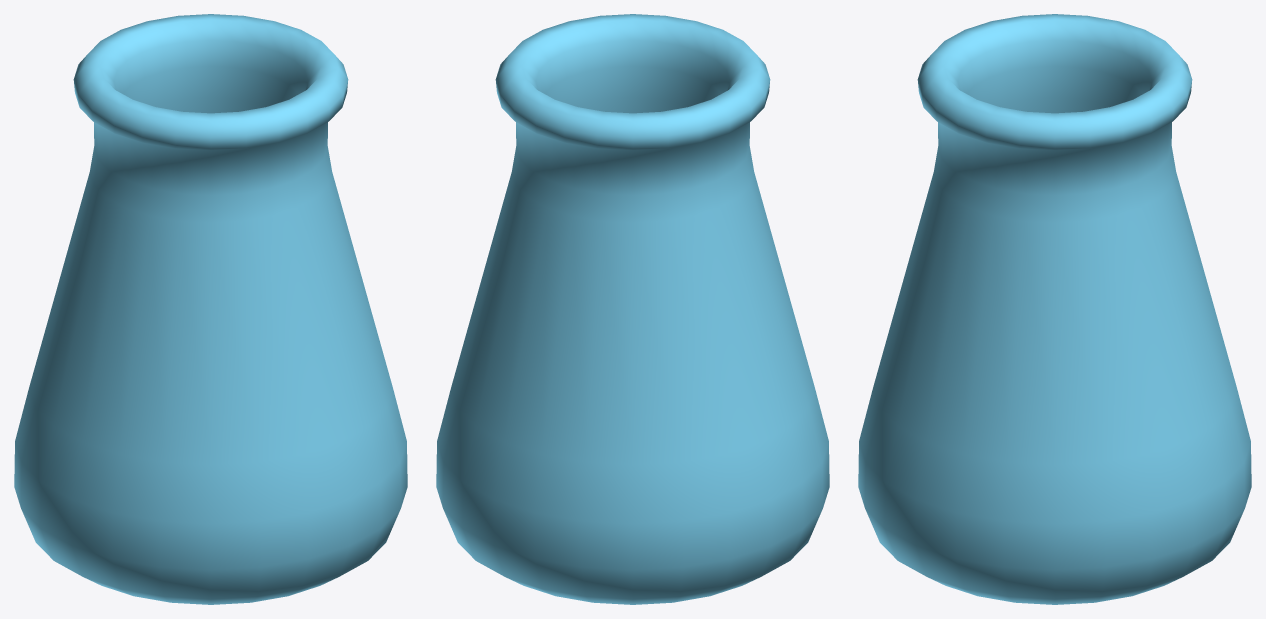
The model's file is Flask, Erlenmeyer, Wide Mouth.fbx.
3 renders of one model, left to right at view 1: azimuth 30°, elevation 25°; view 2: azimuth 150°, elevation 25°; view 3: azimuth 270°, elevation 25°, orthographic.
Visible parts, largest first — view 1: Flask, Erlenmeyer, Wide Mouth_LOD0; view 2: Flask, Erlenmeyer, Wide Mouth_LOD0; view 3: Flask, Erlenmeyer, Wide Mouth_LOD0.
Boxes of the visible parts, x1,y1,x2,y2 form: Flask, Erlenmeyer, Wide Mouth_LOD0: [14, 14, 407, 604]; Flask, Erlenmeyer, Wide Mouth_LOD0: [436, 14, 829, 604]; Flask, Erlenmeyer, Wide Mouth_LOD0: [858, 14, 1251, 604].
Size of what is drawn, in the model's own units: 0.5726 by 0.7782 by 0.5726.
